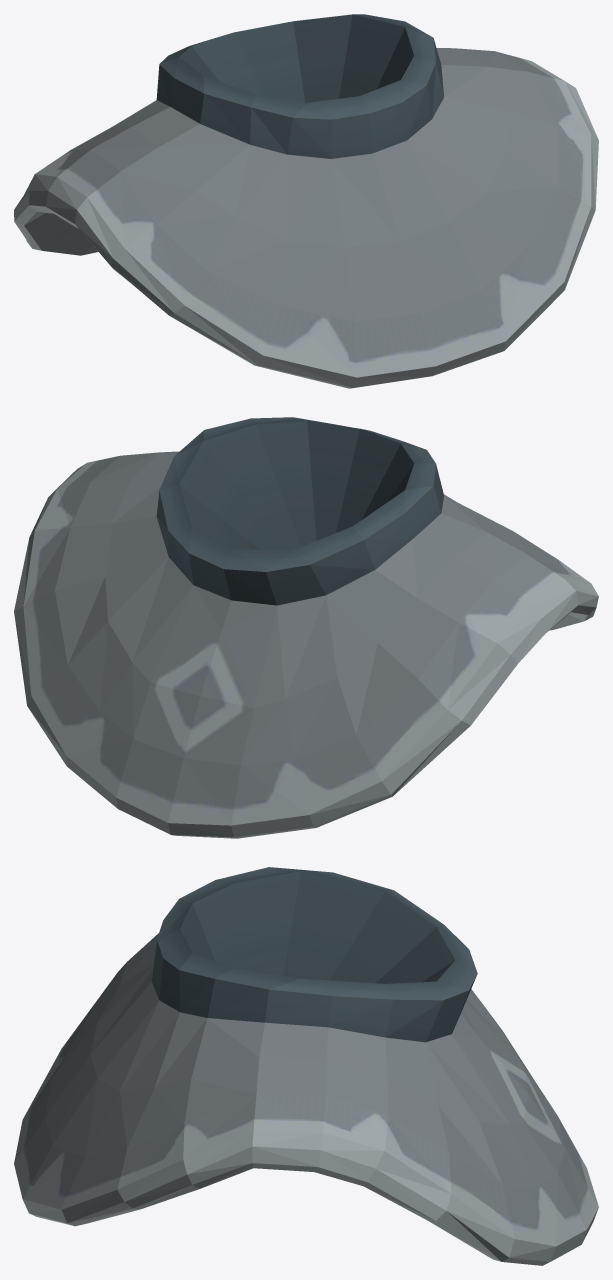
File: NPC_LaborerMaleShoulder.glb
3 renders of one model, top to bottom at view 1: azimuth 30°, elevation 25°; view 2: azimuth 150°, elevation 25°; view 3: azimuth 270°, elevation 25°, orthographic. The views are drawn at different scales.
Visible parts, largest first — view 1: NPC_LaborerMaleShoulder; view 2: NPC_LaborerMaleShoulder; view 3: NPC_LaborerMaleShoulder.
Boxes of the visible parts, bbox=[...] form: NPC_LaborerMaleShoulder: bbox=[14, 14, 598, 388]; NPC_LaborerMaleShoulder: bbox=[14, 417, 598, 838]; NPC_LaborerMaleShoulder: bbox=[14, 867, 598, 1265].
Bounding box in the file's own units: 4.81 × 2.51 × 4.42.
1 material, 1 textured.
